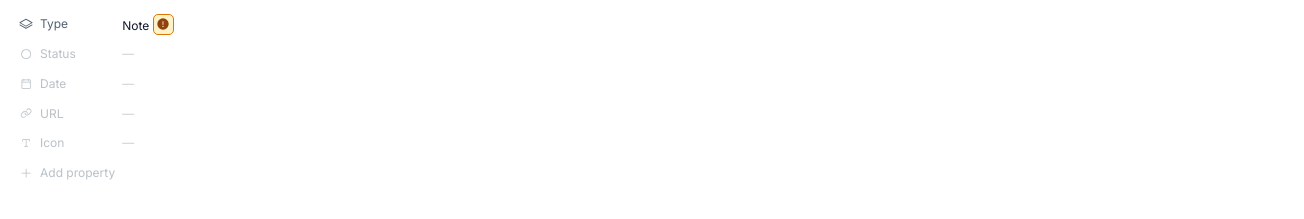
Test: DynamicPropertiesPanel › opens add property form when button clicked
Click the button "Add property": (78, 172) top-left (12, 161), bottom-right (1292, 185)
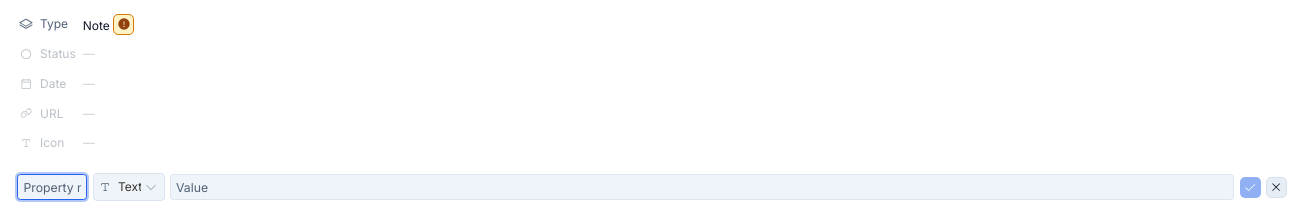
Check: the field with placeholder "Property name" is shown, box top-left (17, 174), bottom-right (87, 200)
Check: the field with placeholder "Value" is shown, box top-left (170, 174), bottom-right (1234, 200)
Check: the dropdown with test id "add-property-type-trigger" is shown, box top-left (92, 173), bottom-right (164, 201)
